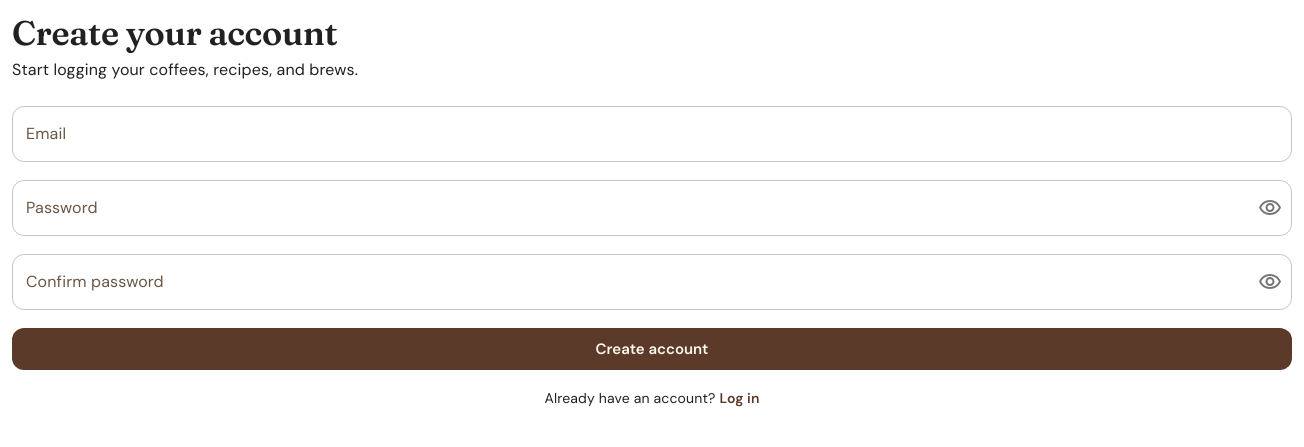
RegisterForm › flags a confirmation that does not match
This screenshot has width=1304, height=447.
Type "brewer@example.com" into the field labelled "Email" at (652, 134), box [12,106,1292,162]
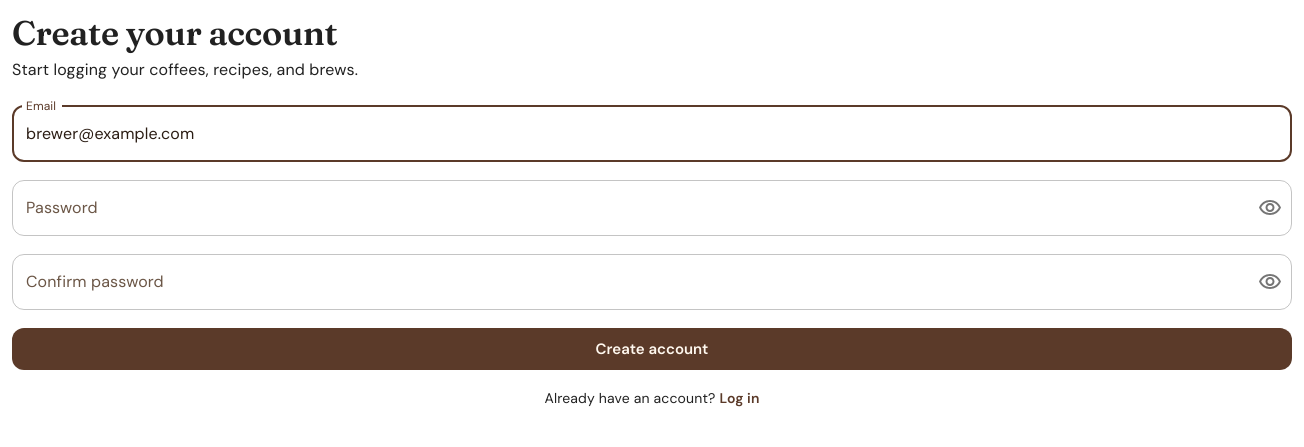
Type "brew-test-pass-001" into the password field labelled "Password" at (627, 208), box [12,180,1242,236]
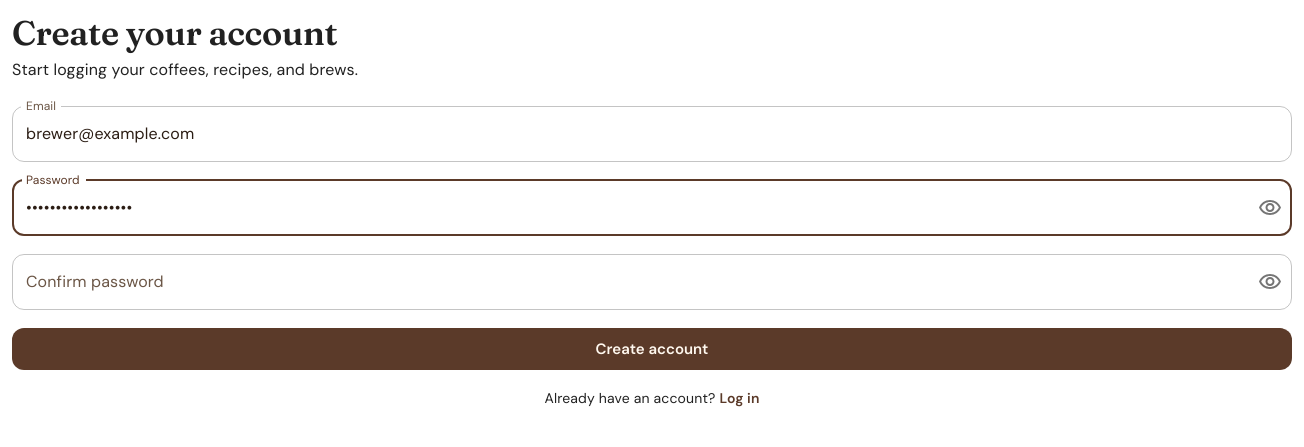
Type "brew-test-pass-002" into the password field labelled "Confirm password" at (627, 282), box [12,254,1242,310]
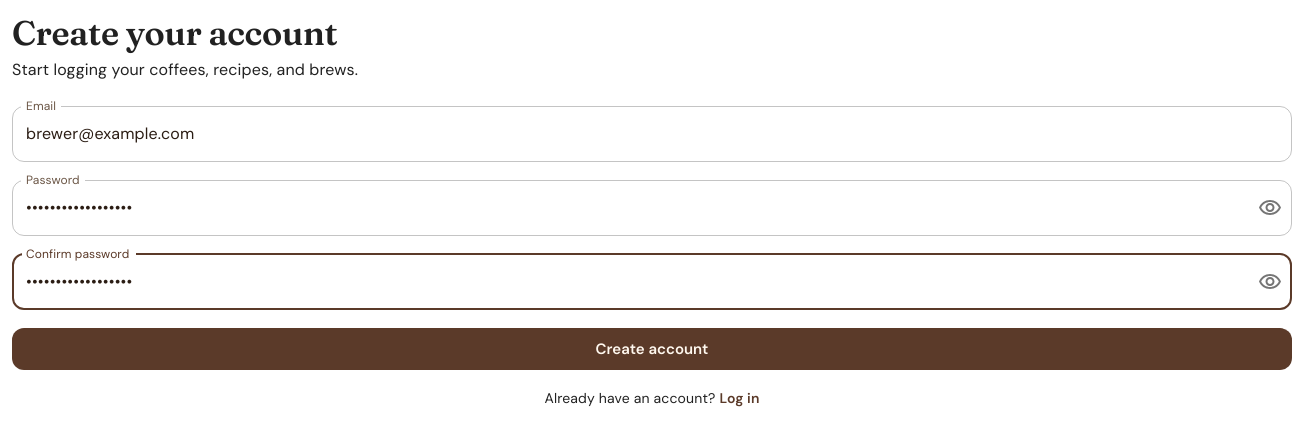
Click the button "Create account" at (652, 349), box [12,328,1292,370]
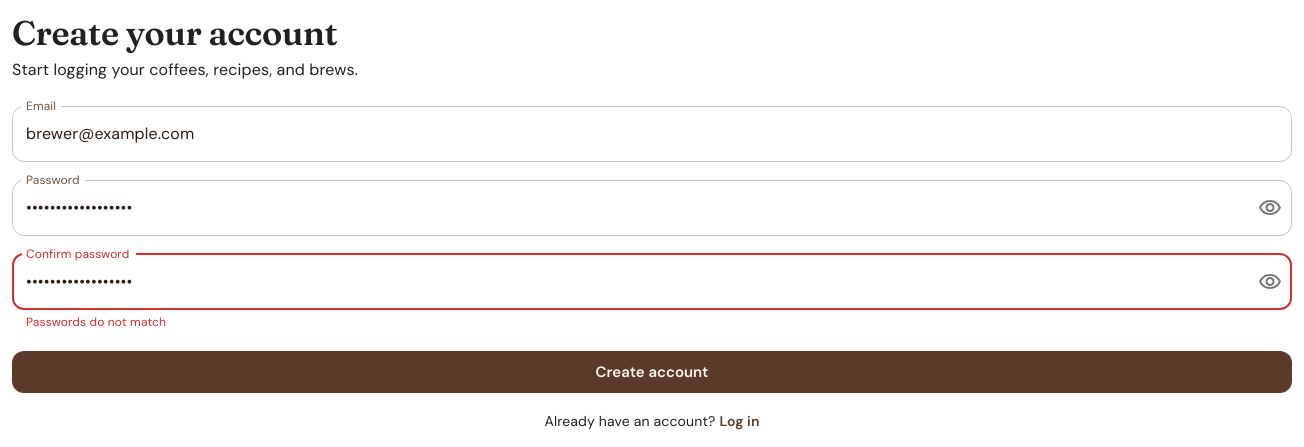
Expected: the text "Passwords do not match" is shown, [26,314,166,330]
